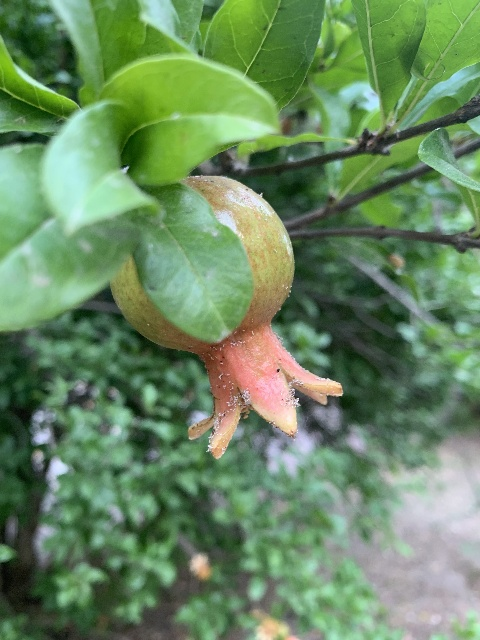early-fruit: (110, 176, 343, 459)
